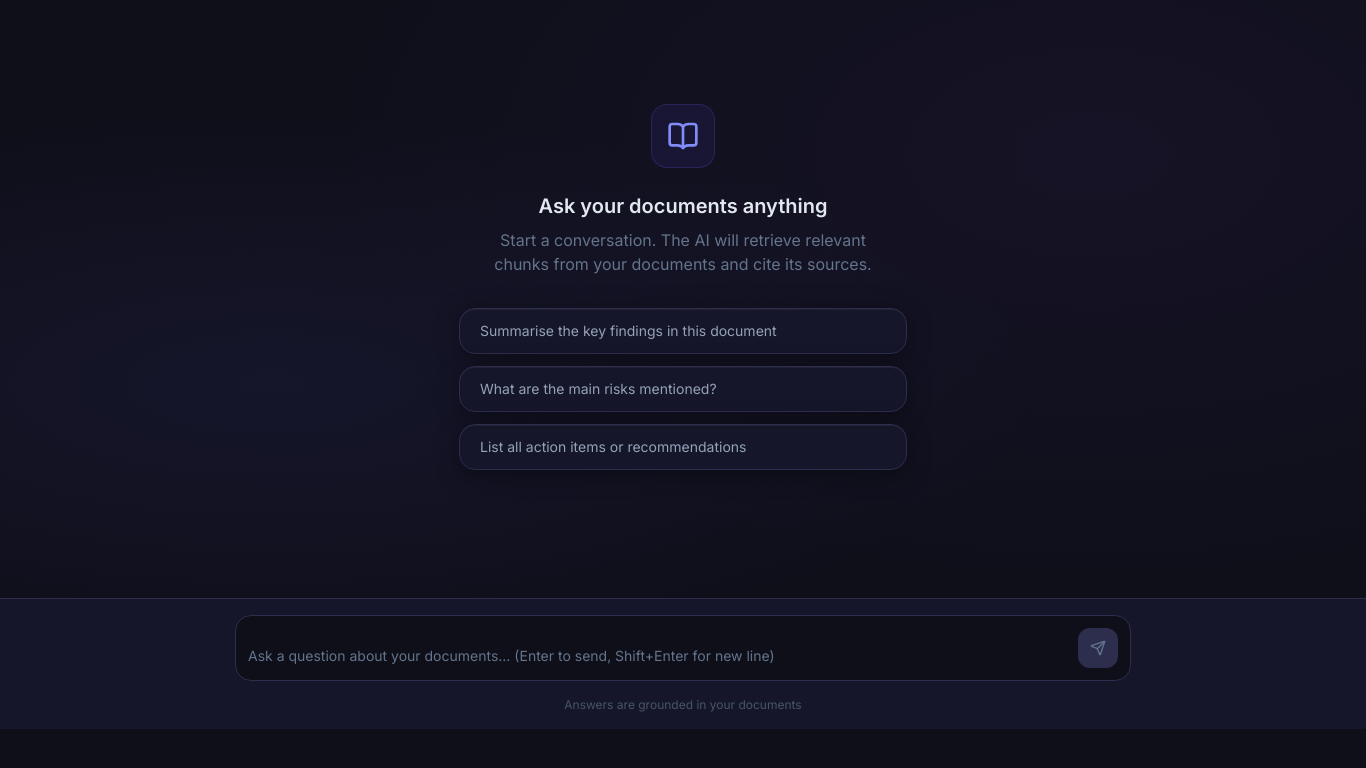
Scenario: ChatPanel streaming (Phase F) › streams tokens split across chunks, shows status, then final answer + citation chip opening the panel
Replace the text in the text box labelled "Ask a question" with "Hi?": (657, 657) [248, 645, 1066, 668]
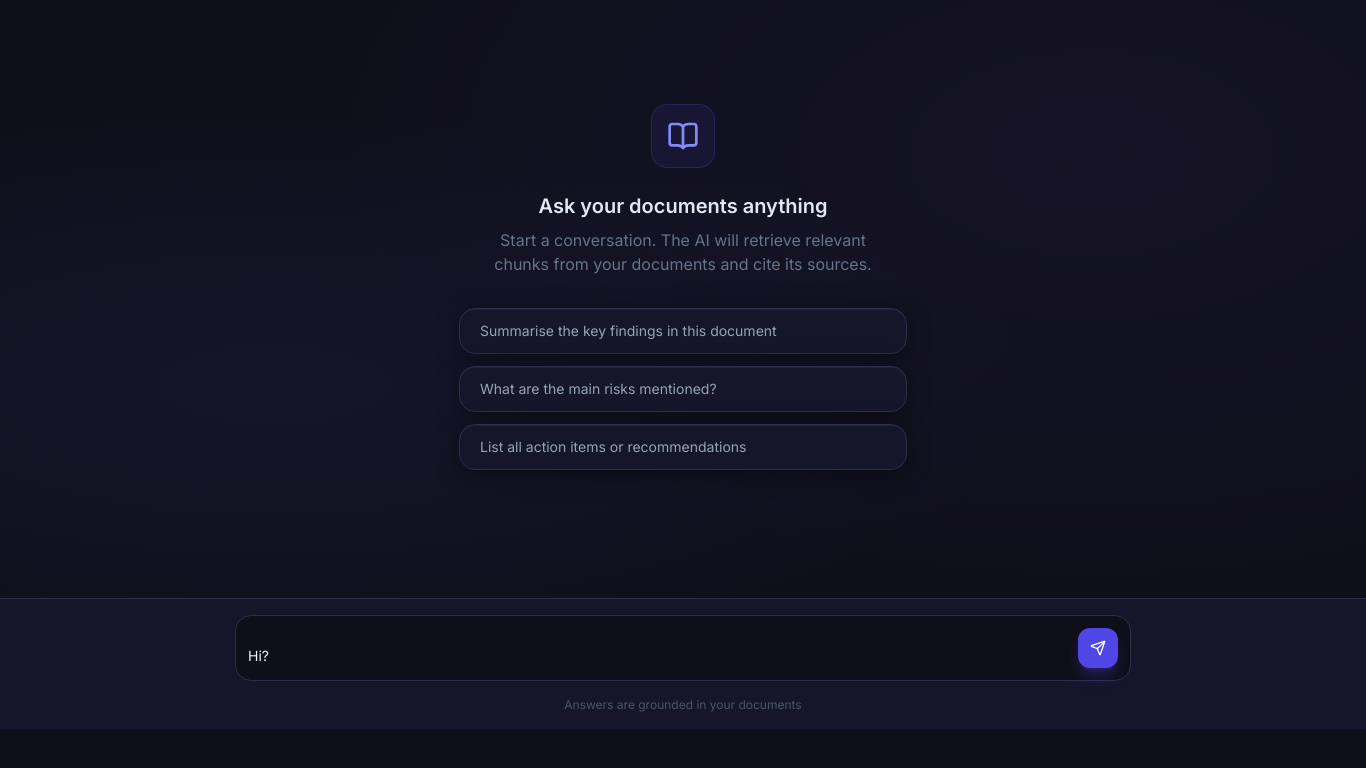
Click the button named "Send message": click(1098, 648) [1078, 628, 1118, 668]
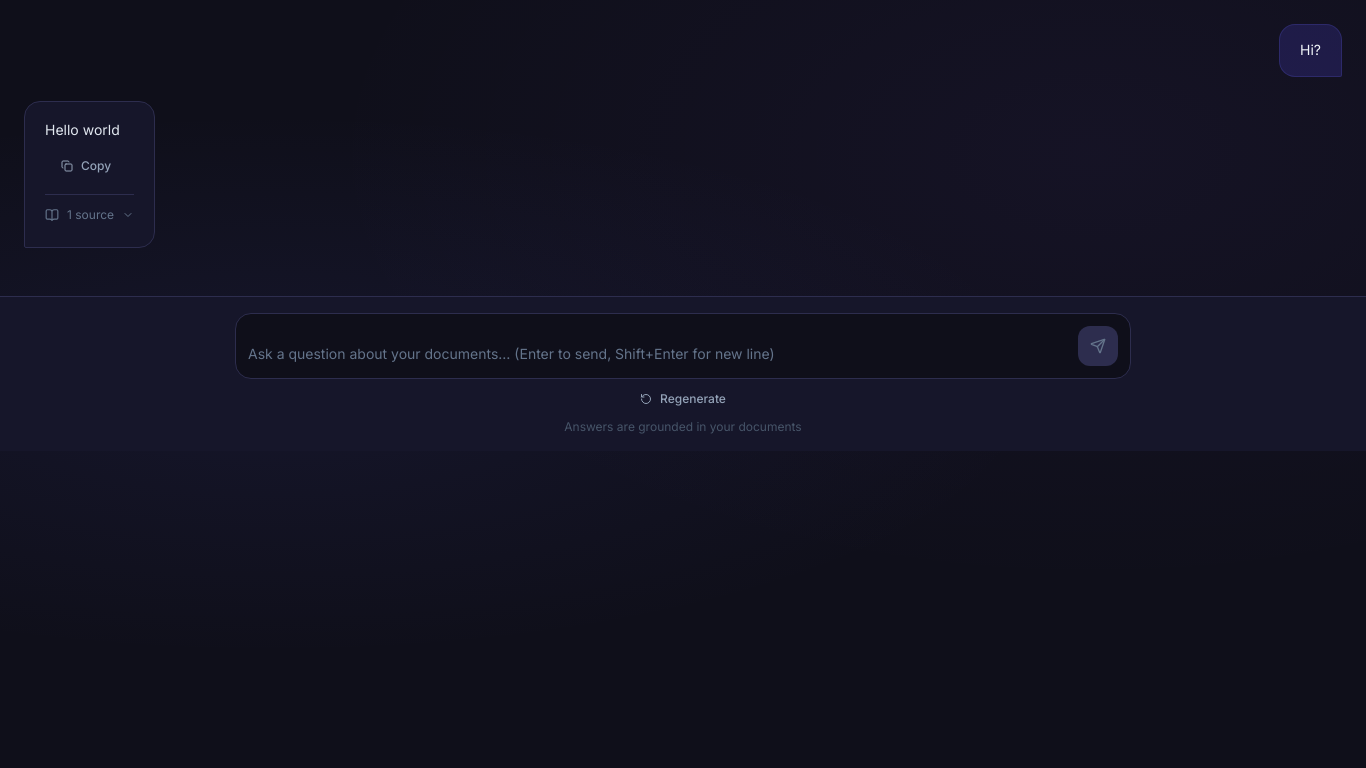
Result: the text "Hello world" is shown at [45, 121, 120, 138]
// Citations are Phase B/C fields, not just retrieved text.
Click the button with aria-label "Show 1 source": click(90, 214) [45, 206, 134, 222]
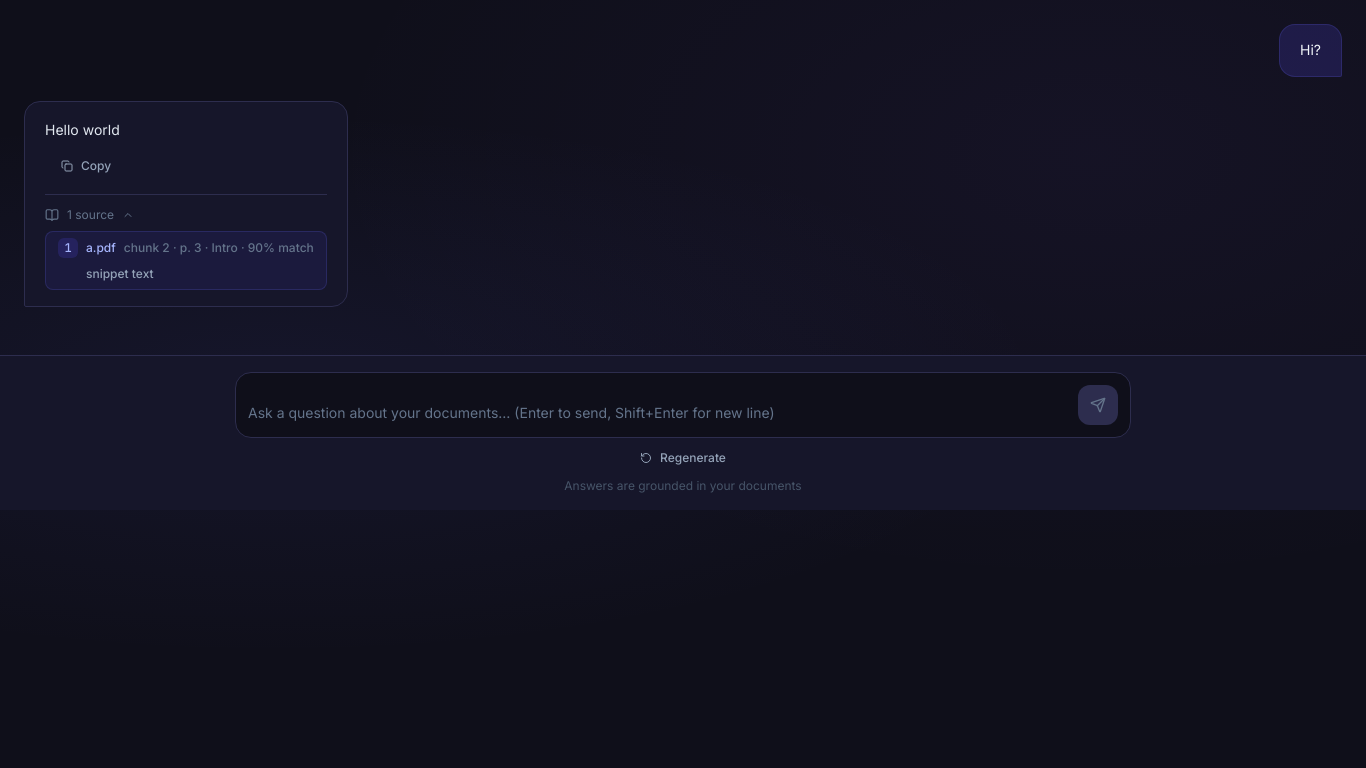
Click the button with aria-label "Open source 1: a.pdf": click(143, 247) [45, 230, 327, 290]
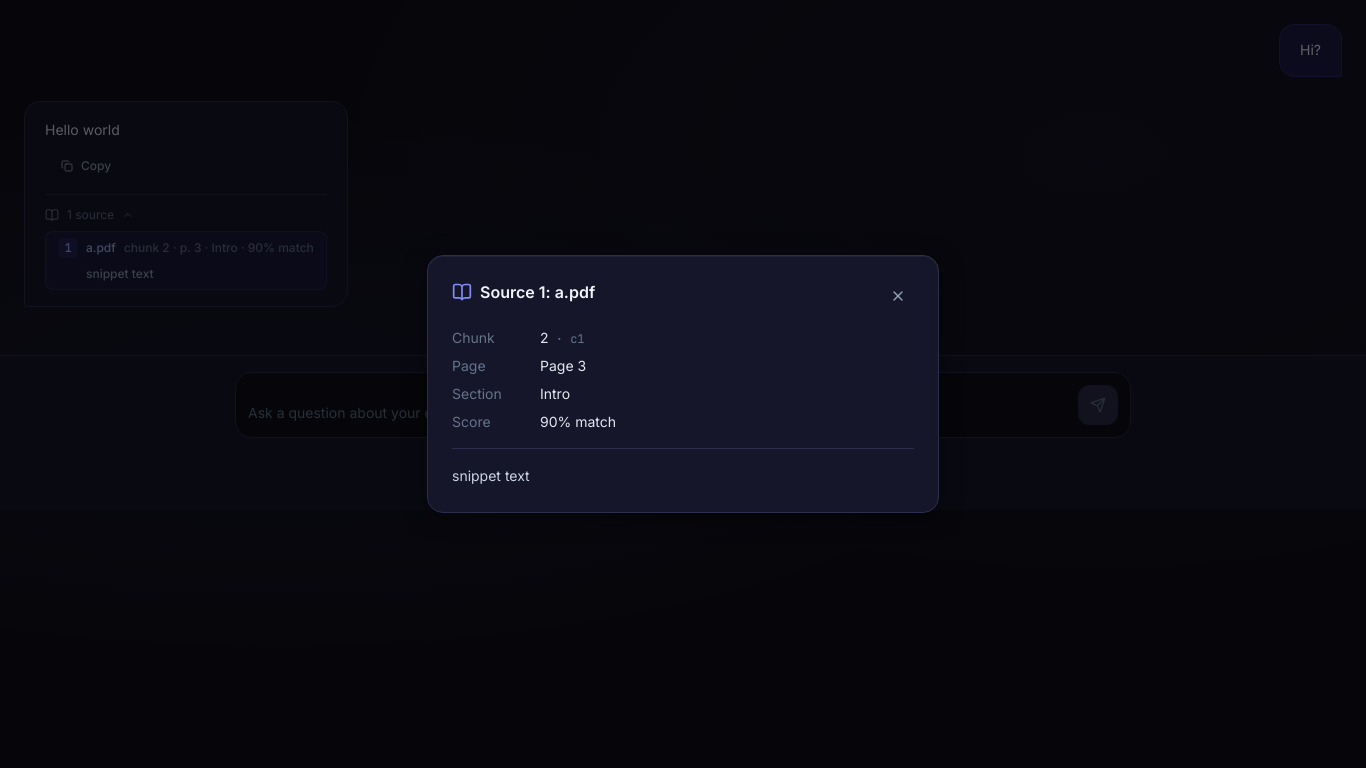
Result: the text "snippet text" is shown 2 times at [86, 266, 154, 280]; [452, 448, 914, 488]
Result: the dialog "Source 1: a.pdf" is shown
